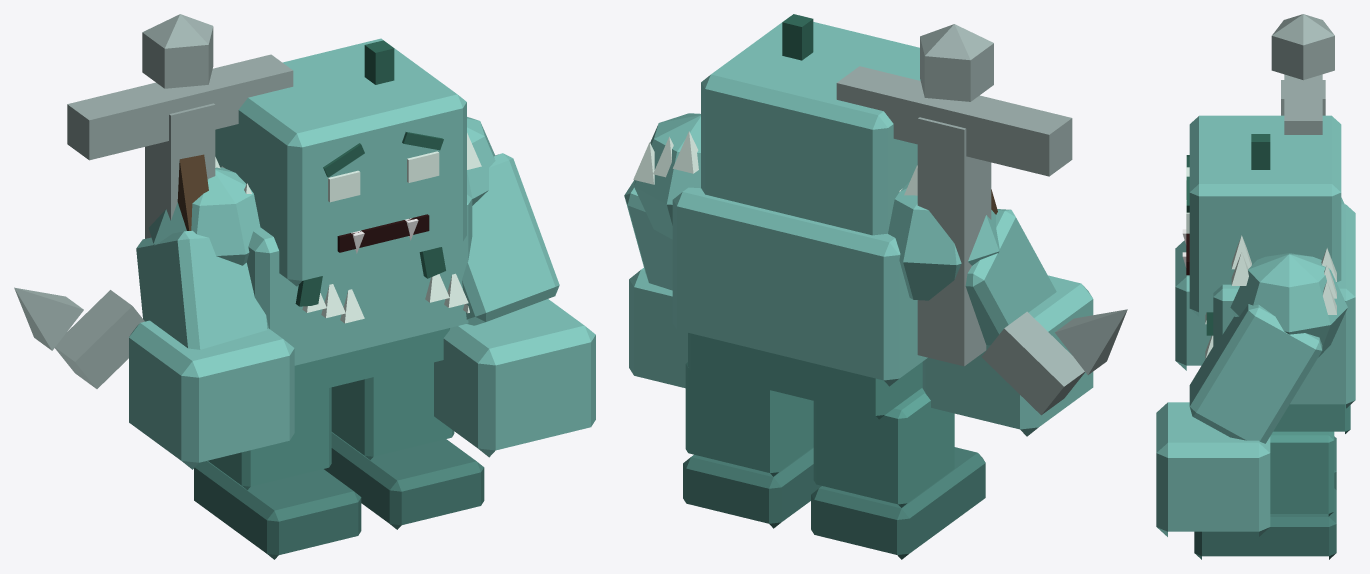
Rendered from r14_mini_barnacle_crusher.glb.
3 renders of one model, left to right at view 1: azimuth 30°, elevation 25°; view 2: azimuth 150°, elevation 25°; view 3: azimuth 270°, elevation 25°, orthographic. The views are drawn at different scales.
Visible parts, largest first — view 1: r14_mini_barnacle_crusher_mesh; view 2: r14_mini_barnacle_crusher_mesh; view 3: r14_mini_barnacle_crusher_mesh.
Part boxes in pixels (<box>): r14_mini_barnacle_crusher_mesh: <box>14,14,595,559</box>; r14_mini_barnacle_crusher_mesh: <box>624,14,1127,559</box>; r14_mini_barnacle_crusher_mesh: <box>1156,14,1355,559</box>.
Bounding box in the file's own units: 4.33 × 4.2 × 1.7.
Materials: 1 (1 with a texture image).
